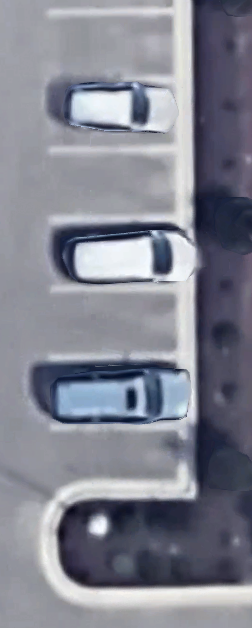Occupied: (47, 78, 176, 149), (50, 354, 177, 426), (49, 220, 176, 288)
Vacant: (49, 150, 176, 219), (48, 11, 175, 79), (50, 289, 176, 354), (51, 427, 178, 489)
